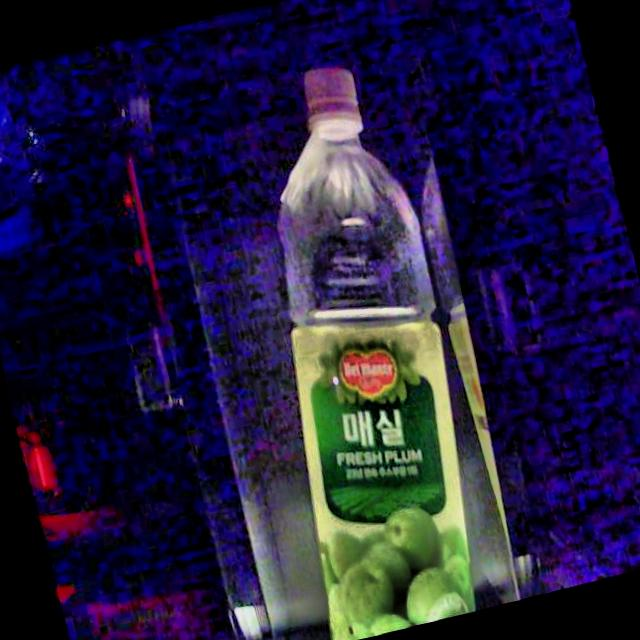plastic bottle: (277, 66, 475, 640)
